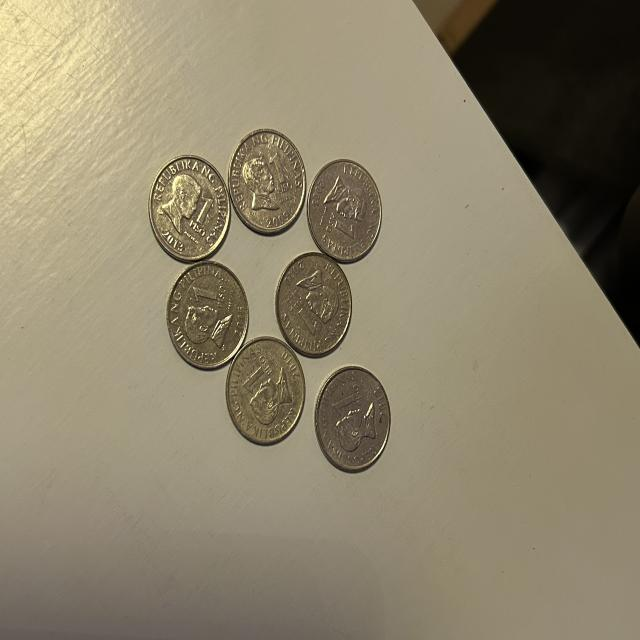1_Old_Front: (322, 208, 359, 251), (328, 381, 366, 422), (266, 150, 294, 203), (242, 356, 278, 394), (288, 297, 317, 341), (189, 283, 230, 314), (189, 196, 216, 242)
